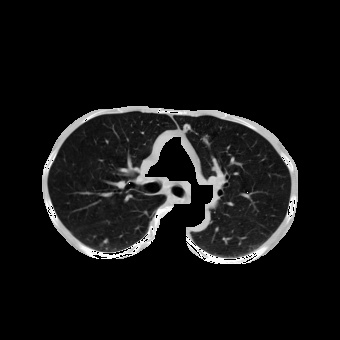PN: (182, 124, 190, 132)
